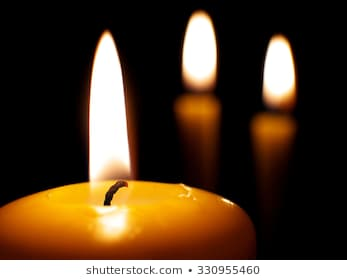Fire: (88, 30, 133, 191), (179, 8, 221, 93), (263, 33, 299, 113)
